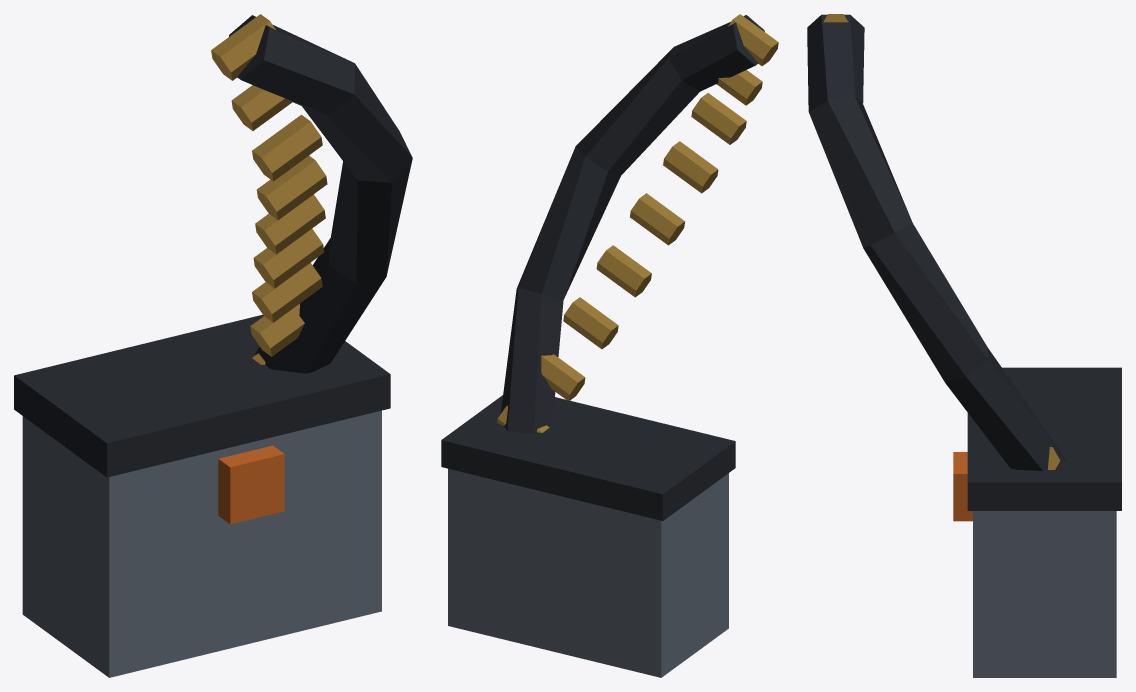
File: ammo-feed-belt.glb
The picture shows the model from 3 angles, left to right: view 1: azimuth 30°, elevation 25°; view 2: azimuth 150°, elevation 25°; view 3: azimuth 270°, elevation 25°; orthographic projection. The views are drawn at different scales.
Parts seen in each view (by area): view 1: m; view 2: m; view 3: m.
Part boxes in pixels (<box>): m: <box>14,14,412,677</box>; m: <box>441,14,778,677</box>; m: <box>807,14,1121,677</box>.
Size of the model in its own units: 0.0844 by 0.2 by 0.0978.
